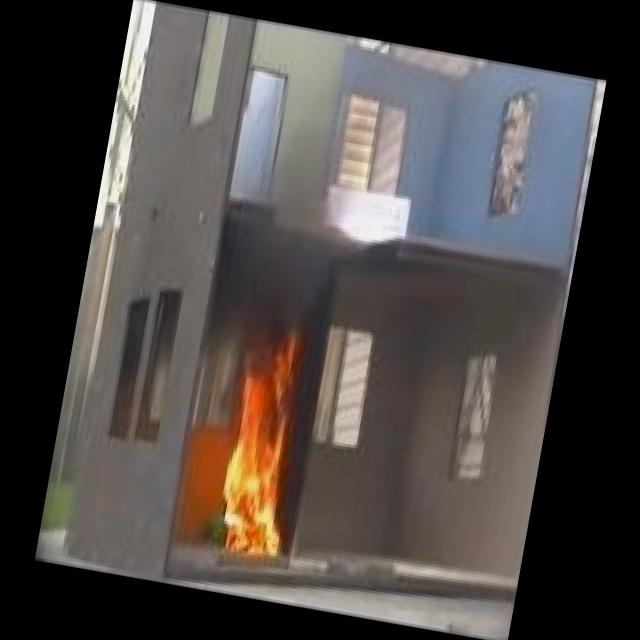fire: (186, 318, 320, 568)
